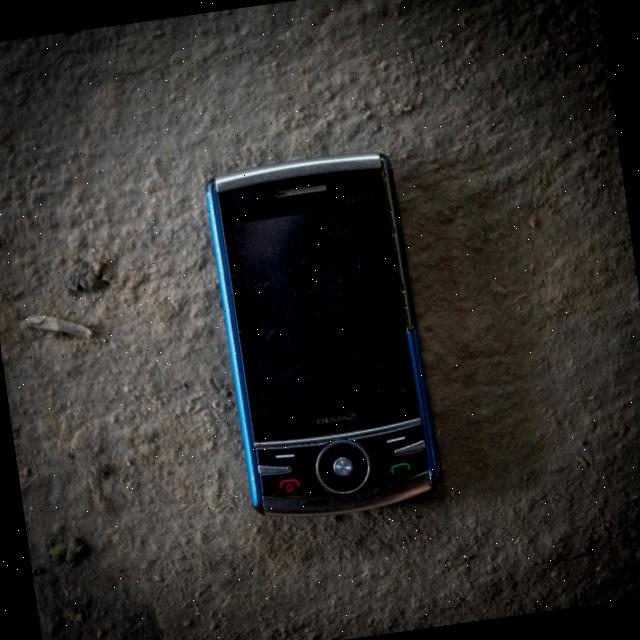Phone: (200, 148, 442, 526)
